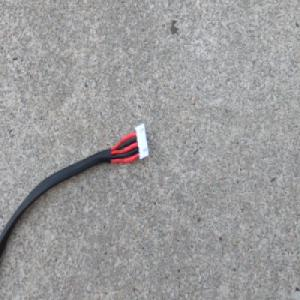Wire: (0, 120, 150, 270)
